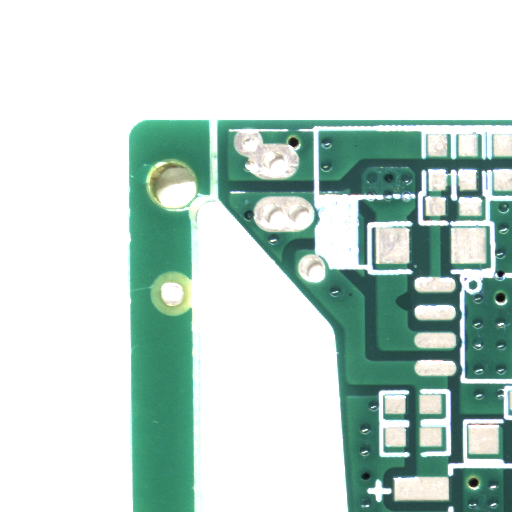Mouse_bite: (403, 301, 417, 320)
